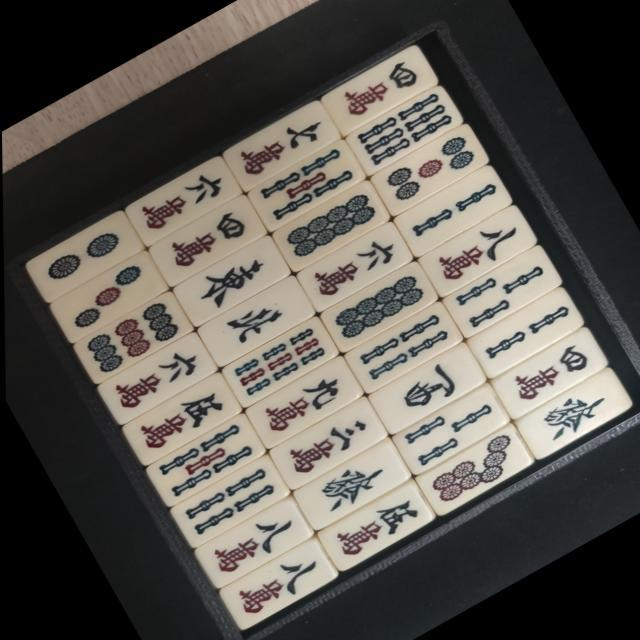hdg: (293, 442, 407, 530), (517, 372, 628, 458)
hwe: (176, 240, 286, 324)
hwn: (201, 280, 310, 364)
hww: (372, 346, 480, 430)
sb2: (469, 290, 579, 376), (399, 168, 509, 252)
sb3: (395, 386, 506, 472), (446, 248, 556, 333)
sb4: (348, 304, 459, 389), (174, 460, 282, 542)
sb5: (147, 416, 261, 504), (248, 142, 360, 228)
sb6: (351, 88, 458, 171)
sb9: (224, 320, 334, 404)
sc3: (272, 402, 382, 486)
sc4: (494, 332, 602, 415), (326, 48, 432, 132), (154, 200, 261, 283)
sc5: (318, 485, 428, 569), (124, 378, 234, 462)
sc6: (126, 158, 238, 244), (101, 336, 211, 421), (298, 224, 408, 308)
sc7: (227, 104, 337, 188)
sc8: (423, 208, 533, 292), (196, 502, 304, 585), (222, 543, 330, 626)
sc9: (250, 361, 358, 444)
sd2: (27, 214, 136, 298)
sd3: (52, 256, 162, 340)
sd5: (375, 127, 484, 212)
sd7: (419, 427, 529, 511)
sd8: (275, 183, 385, 267), (324, 266, 434, 350)
sd9: (72, 294, 188, 383)
